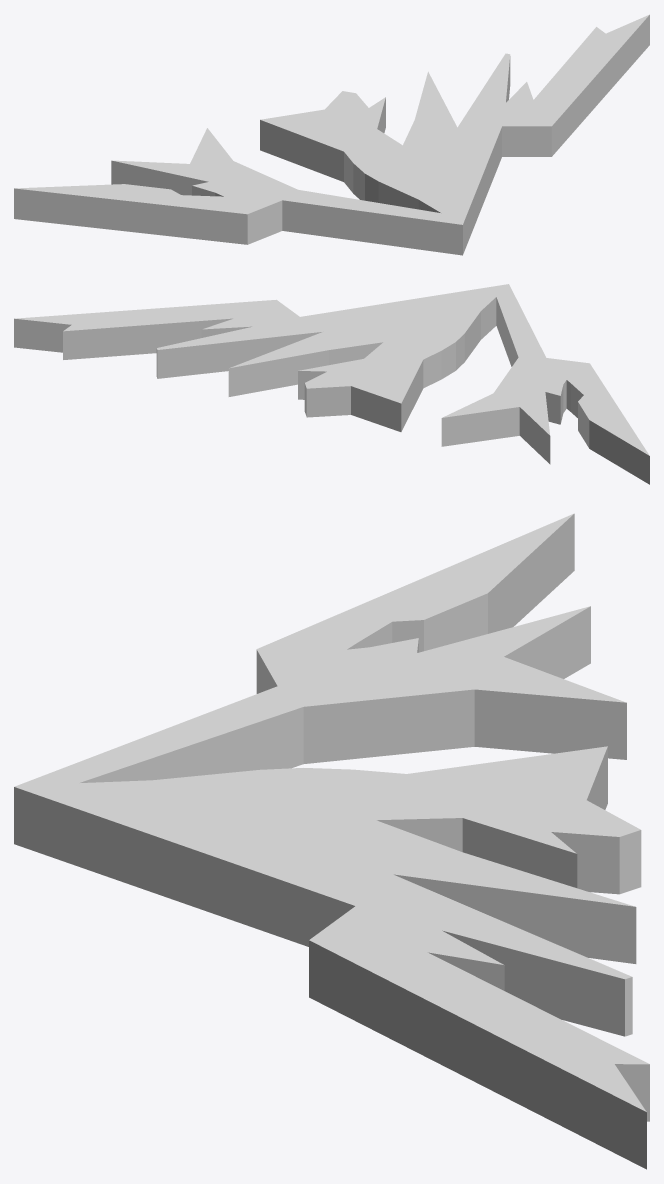
Rendered from Mountain_3D_01.fbx.
3 views of the same model, one above another, from view 1: azimuth 30°, elevation 25°; view 2: azimuth 150°, elevation 25°; view 3: azimuth 270°, elevation 25° (orthographic). The views are drawn at different scales.
Parts seen in each view (by area): view 1: Mountain_3D_01; view 2: Mountain_3D_01; view 3: Mountain_3D_01.
Part boxes in pixels (bbox=[...]): Mountain_3D_01: bbox=[14, 14, 649, 255]; Mountain_3D_01: bbox=[14, 284, 649, 484]; Mountain_3D_01: bbox=[14, 513, 649, 1169].
Bounding box in the file's own units: 224 × 10 × 101.
